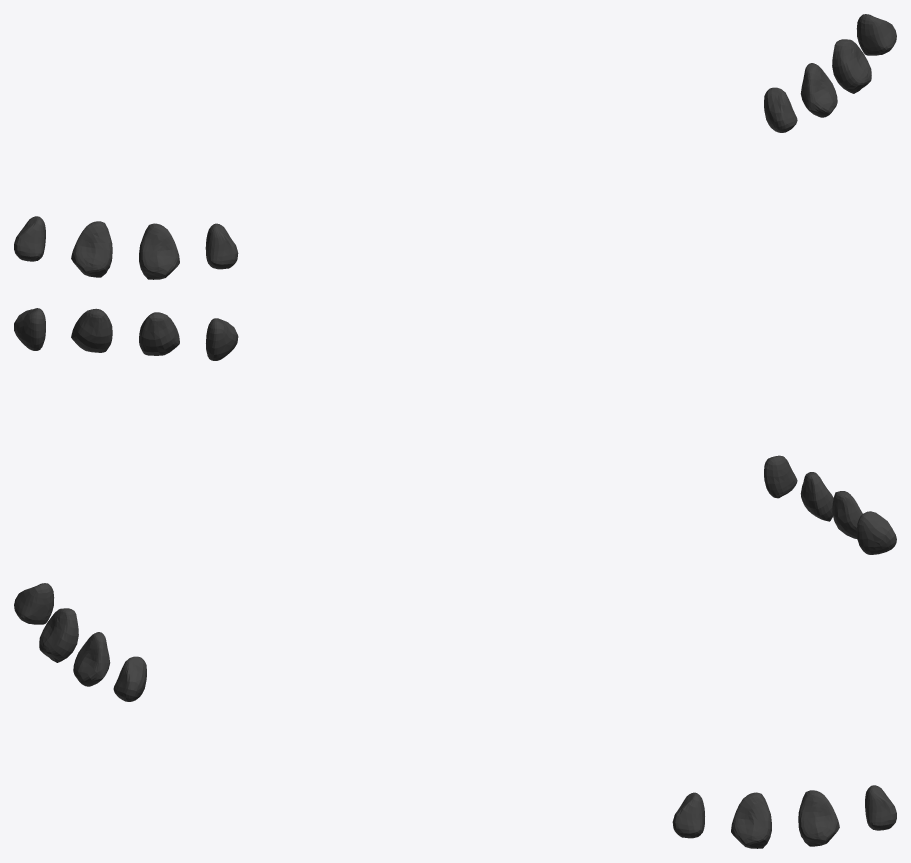
File: b_HL_sesamoid_proximal_L_LO.glb
3 views of the same model, one above another, from view 1: azimuth 30°, elevation 25°; view 2: azimuth 150°, elevation 25°; view 3: azimuth 330°, elevation 25° (orthographic).
Parts seen in each view (by area): view 1: b_HL_sesamoid_proximal_L_LO; view 2: b_HL_sesamoid_proximal_L_LO; view 3: b_HL_sesamoid_proximal_L_LO.
Part boxes in pixels (x1,y1,x2,y2): b_HL_sesamoid_proximal_L_LO: (14,14,896,279); b_HL_sesamoid_proximal_L_LO: (14,308,896,554); b_HL_sesamoid_proximal_L_LO: (14,583,896,848).
Size of the model in its own units: 0.00333 by 0.000194 by 0.000415.
Materials: 1 (1 with a texture image).
